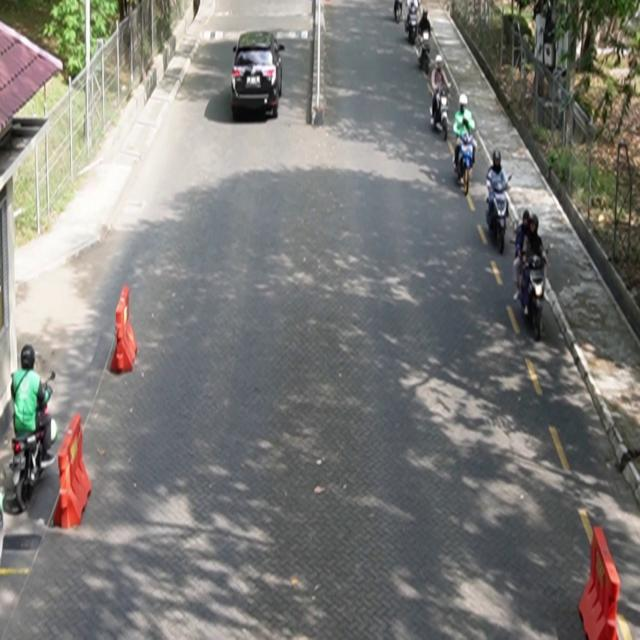car: (232, 31, 286, 120)
